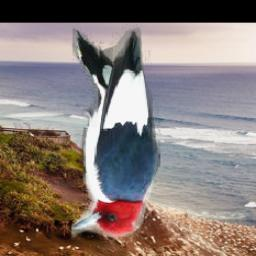Woodpecker: (70, 24, 159, 242)
